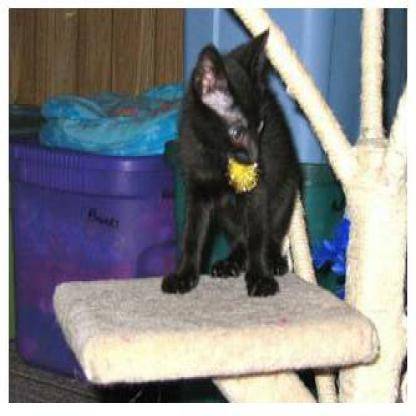cat: (168, 38, 316, 302)
